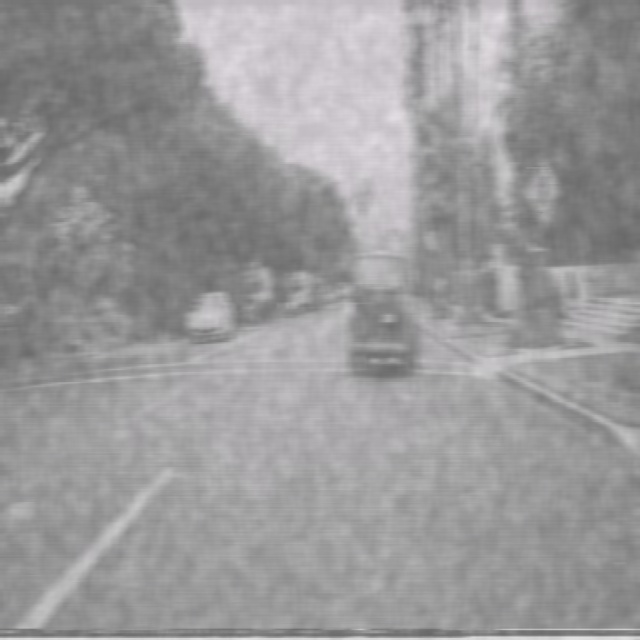pedestrianCrossing: (526, 156, 561, 227)
